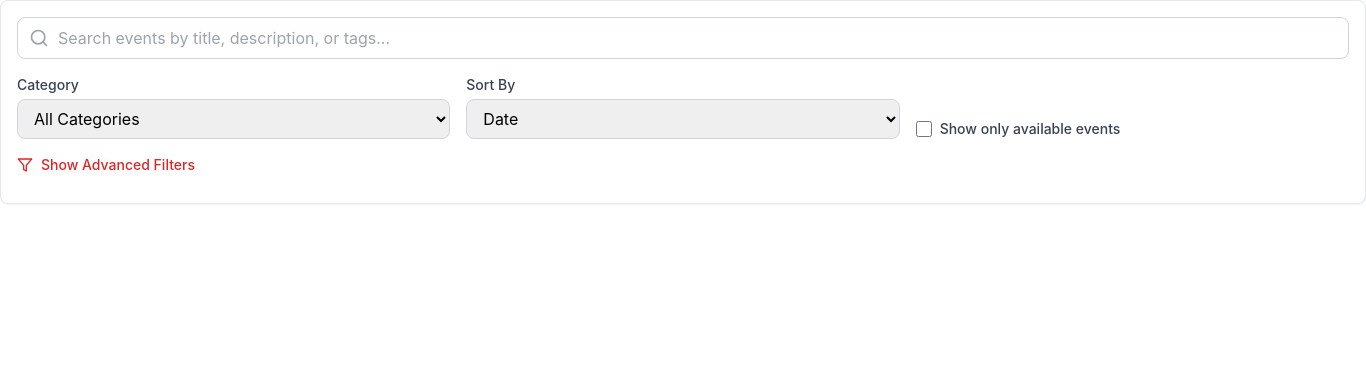
Test case: EventFilters › toggles advanced filters
The width and height of the screenshot is (1366, 388).
Click the button "Show Advanced Filters".
click(106, 165)  # box 17,155 -> 195,175
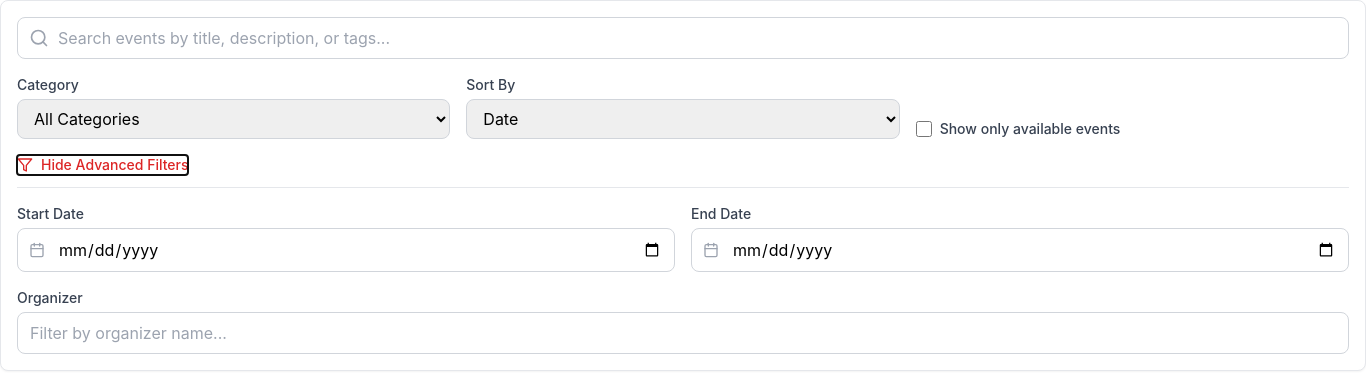
Now the text "Hide Advanced Filters" is shown, box 41,155 -> 188,175
